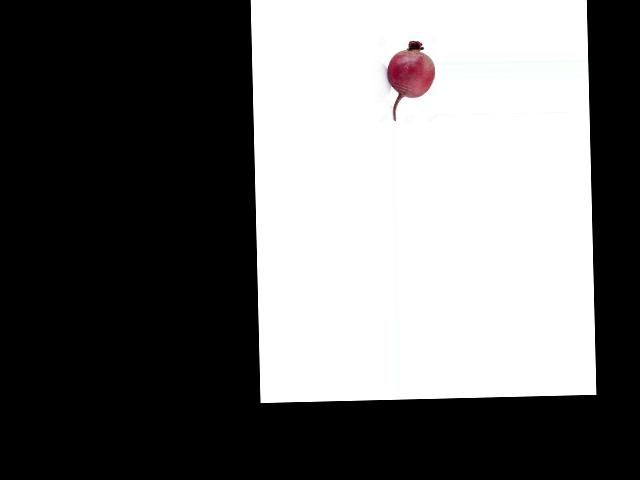beet: (386, 40, 435, 121)
